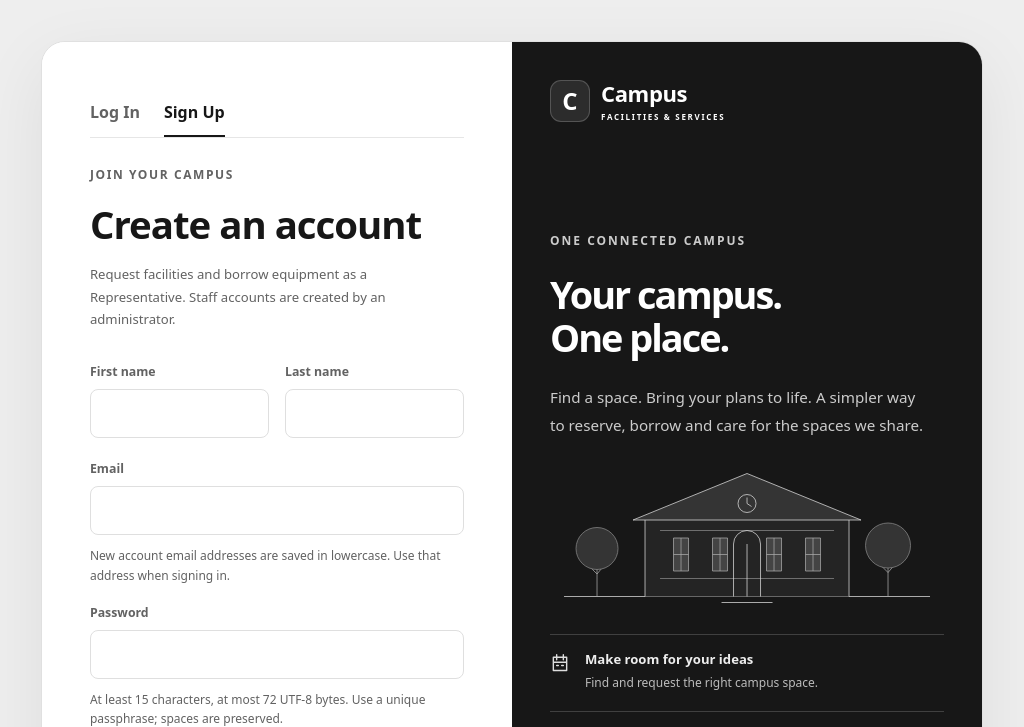
Test case: password visibility does not submit, and pending submissions cannot duplicate requests
Type "Test" into the field labelled "First name". click: (180, 414)
box: x1=90 y1=389 x2=269 y2=438
Type "Person" into the field labelled "Last name". click: (374, 414)
box: x1=285 y1=389 x2=464 y2=438
Type "test@example.test" into the field labelled "Email". click: (277, 511)
box: x1=90 y1=486 x2=464 y2=535
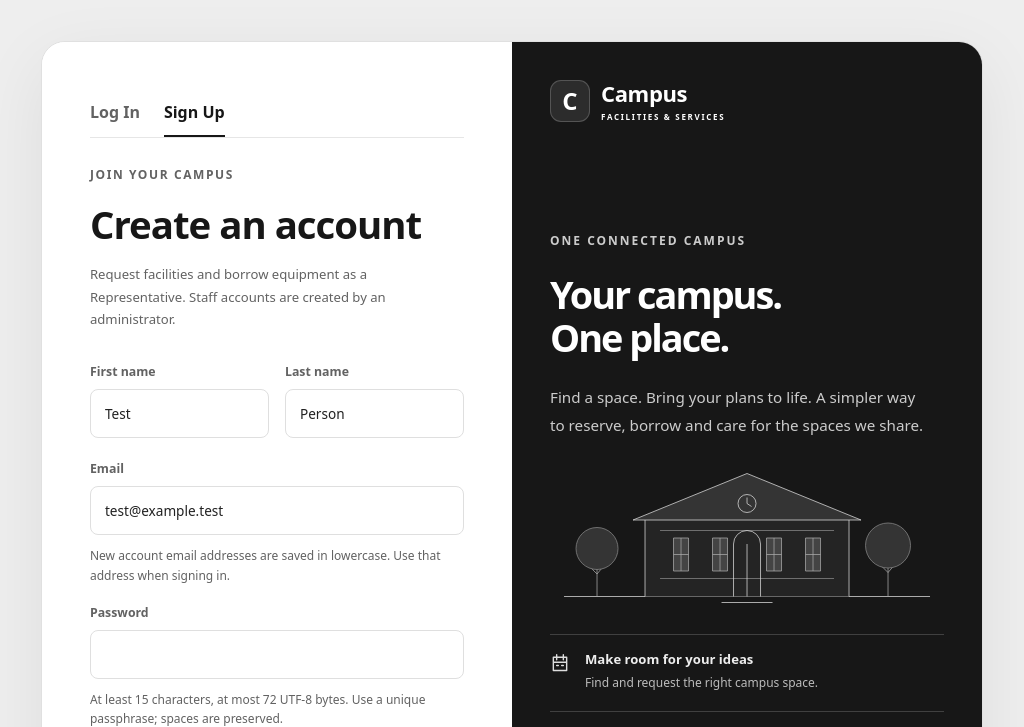
Type "Synthetic passphrase 827!" into the password field labelled "Password". click: (277, 654)
box: x1=90 y1=630 x2=464 y2=679
(page scrolled)
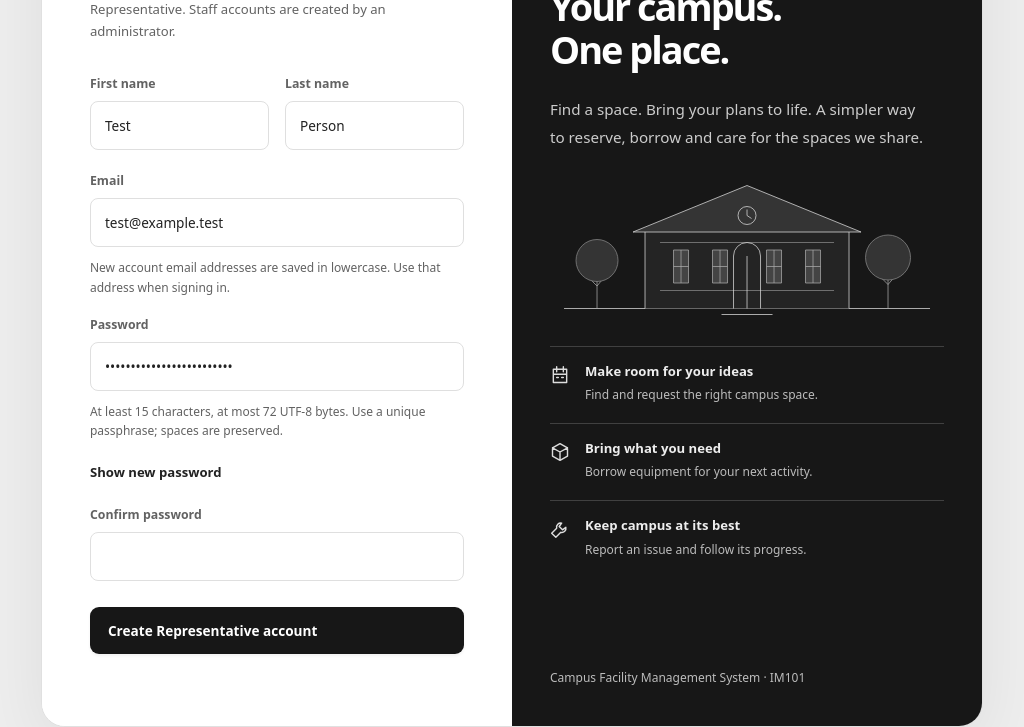
Type "Synthetic passphrase 827!" into the password field labelled "Confirm password". click: (277, 556)
box: x1=90 y1=532 x2=464 y2=581
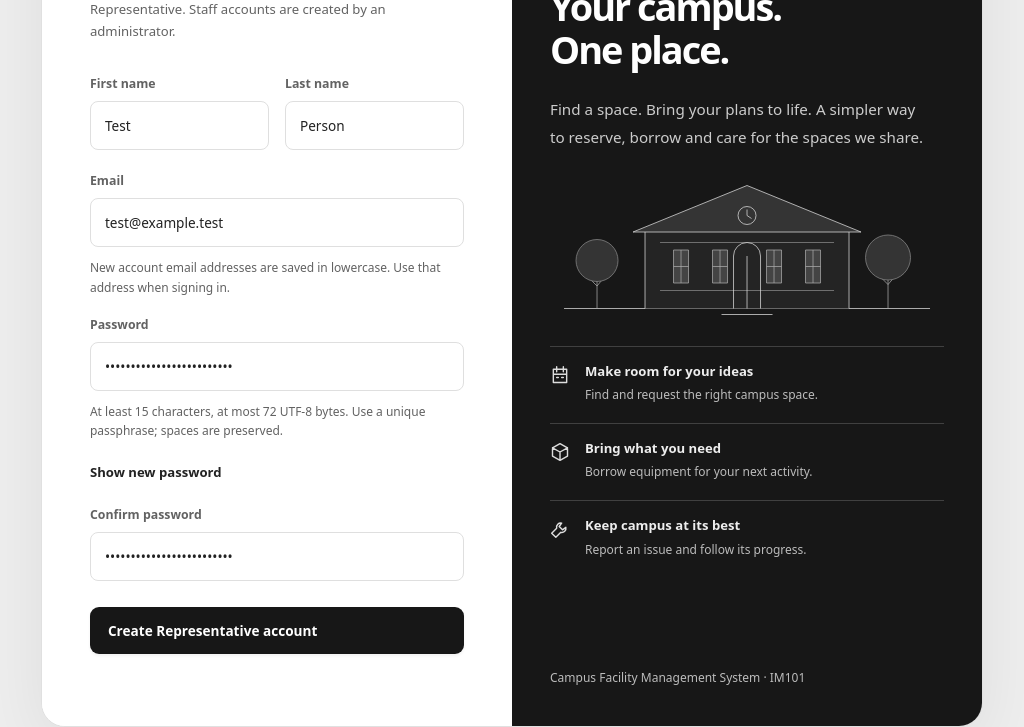
Click the button "Show new password". click: (156, 472)
box: x1=90 y1=458 x2=222 y2=487
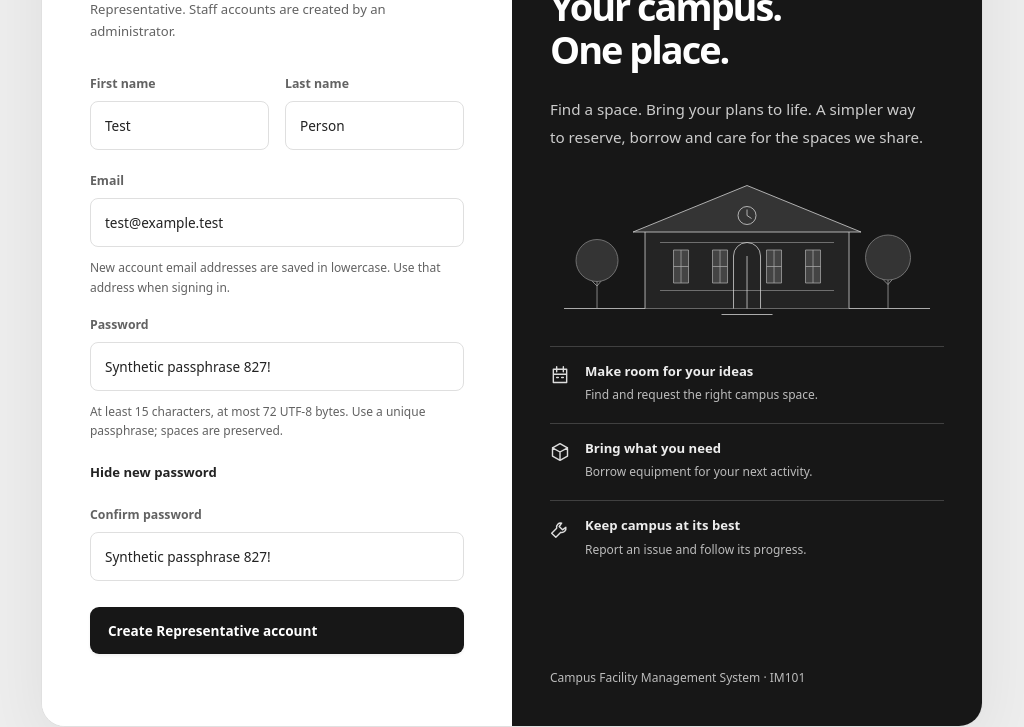
Submit the form named "Password", box x1=90 y1=74 x2=464 y2=678
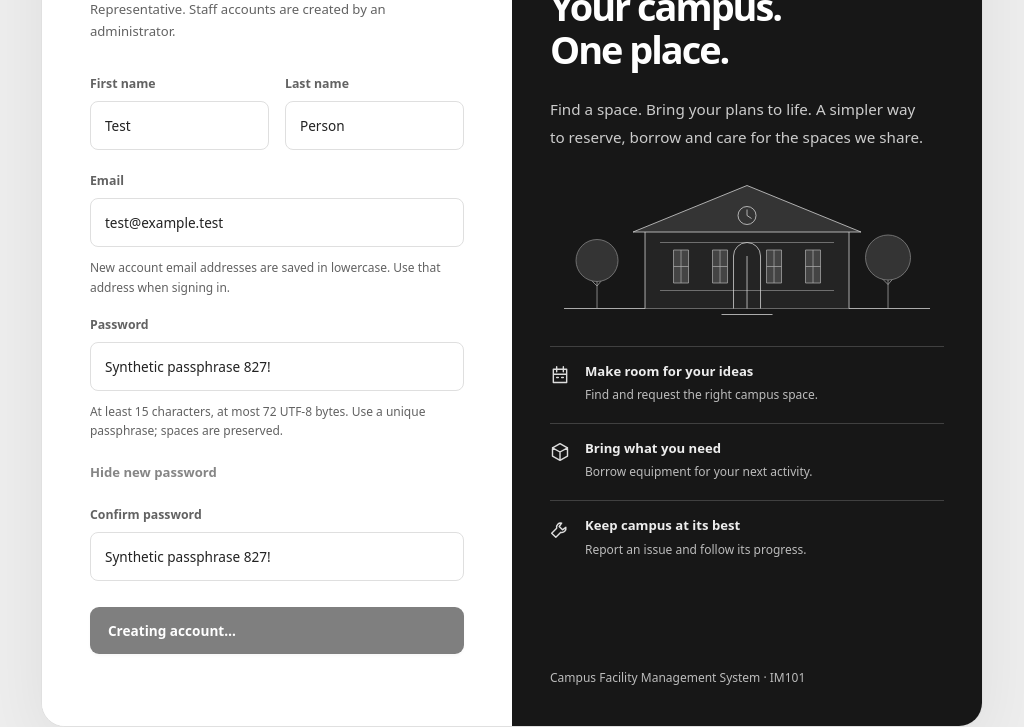
Submit the form named "Password", box x1=90 y1=74 x2=464 y2=678
(page scrolled)
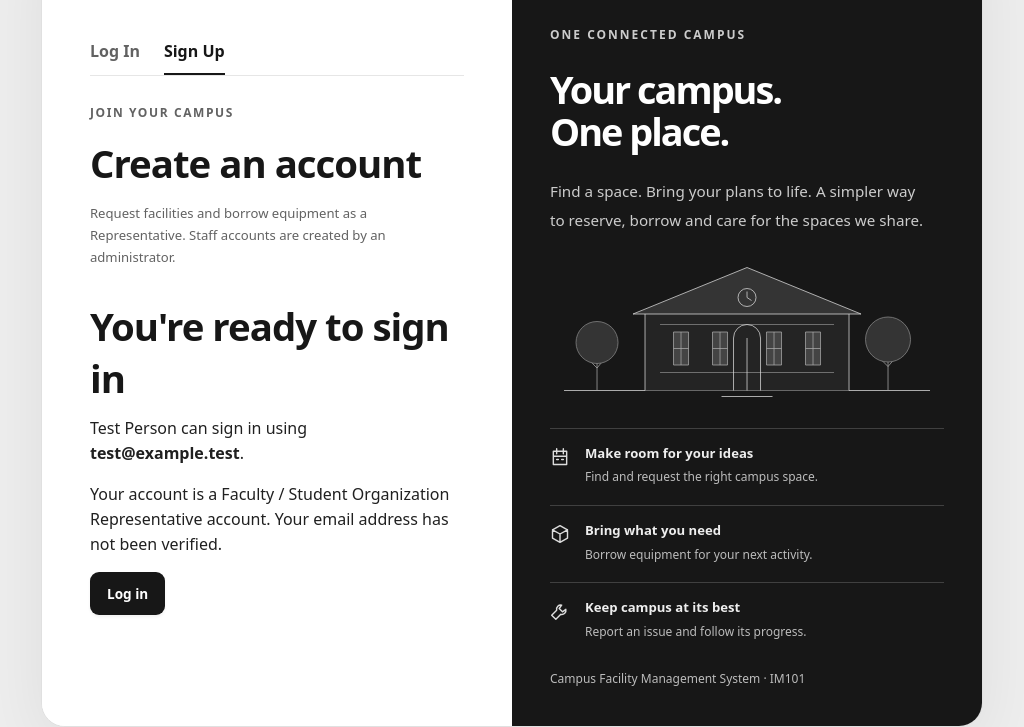
Result: the heading "You're ready to sign in" is shown at x1=90 y1=301 x2=464 y2=404
